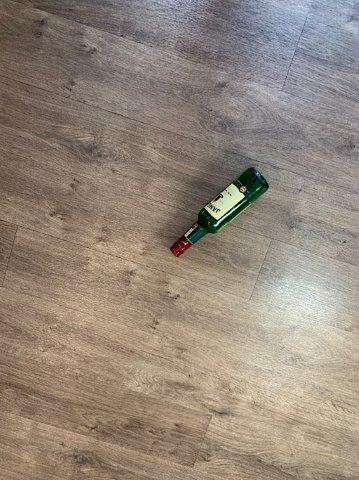botolkaca: (171, 168, 269, 257)
